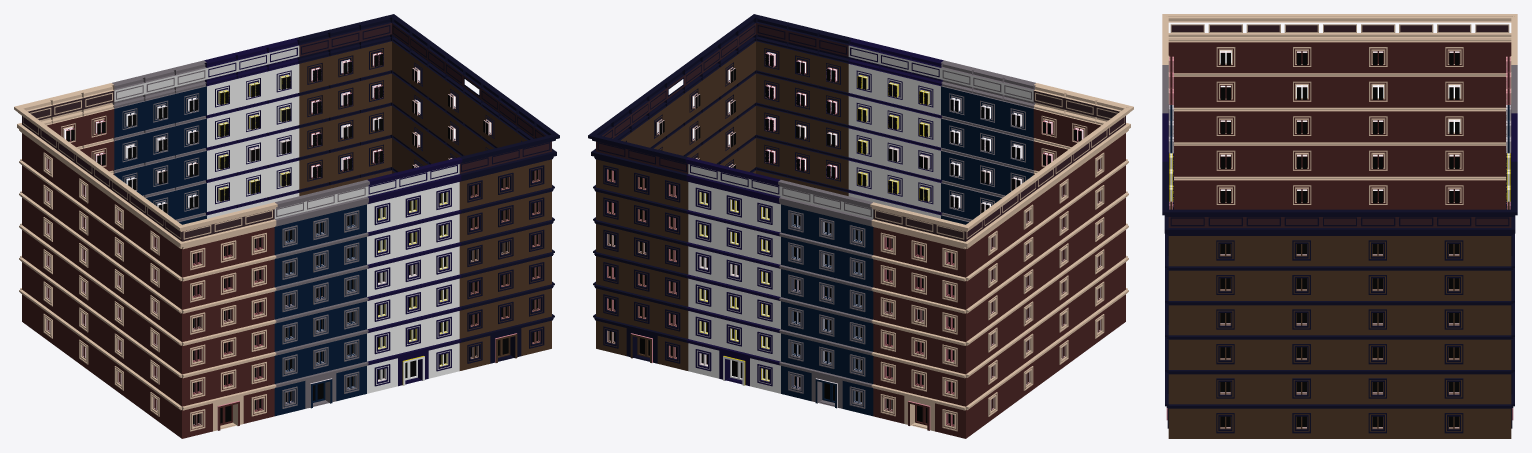
Rendered from myBuilding.fbx.
The picture shows the model from 3 angles, left to right: view 1: azimuth 30°, elevation 25°; view 2: azimuth 150°, elevation 25°; view 3: azimuth 270°, elevation 25°; orthographic projection. The views are drawn at different scales.
Visible parts, largest first — view 1: Roof.186; view 2: Roof.186; view 3: Roof.186.
Boxes of the visible parts, left/top/right/bottom form: Roof.186: left=14, top=14, right=559, bottom=438; Roof.186: left=588, top=14, right=1133, bottom=438; Roof.186: left=1162, top=14, right=1517, bottom=438.
Size of the model in its own units: 1233 by 664 by 933.
